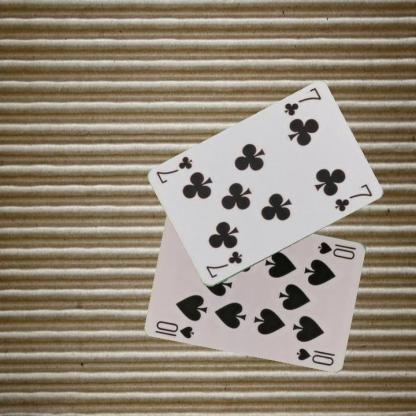10s: (315, 238, 358, 260), (154, 318, 195, 340)
7c: (282, 85, 322, 118), (203, 248, 244, 280)
